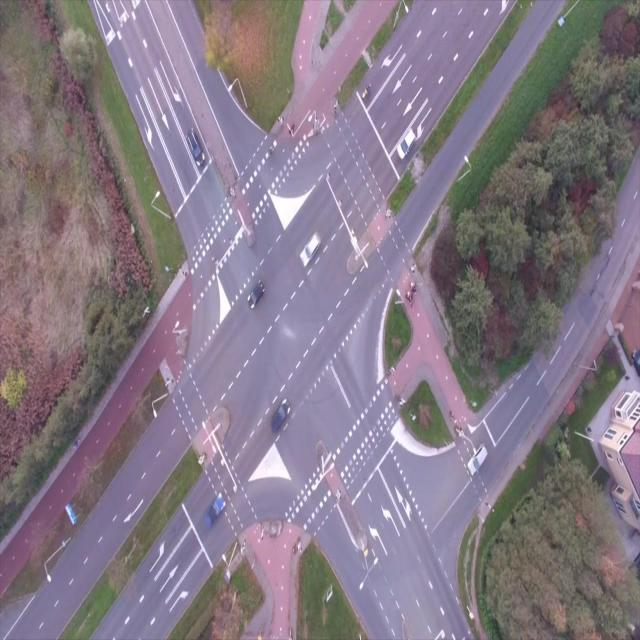car: (242, 276, 269, 315), (200, 491, 227, 529), (298, 230, 324, 267), (394, 124, 420, 161), (464, 442, 490, 477), (267, 397, 292, 432), (185, 129, 208, 166)
